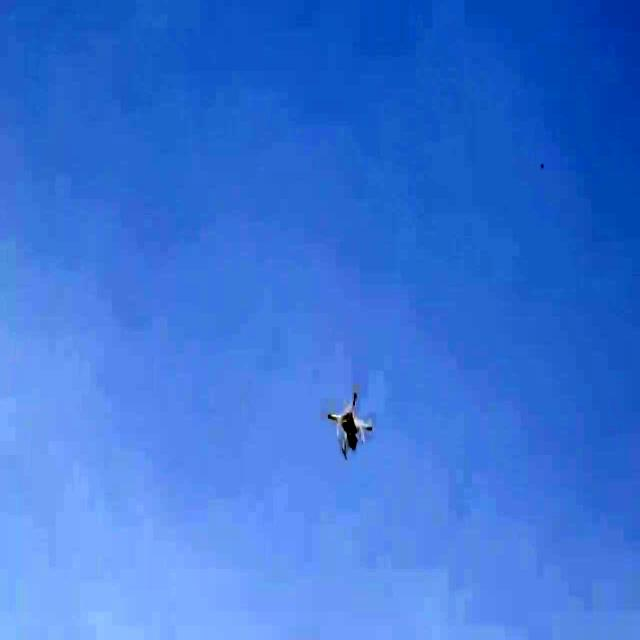drone: (329, 397, 374, 457)
